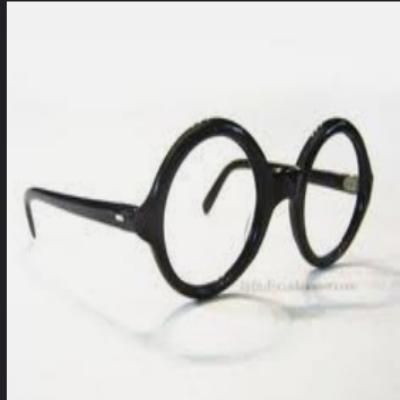glasses: (22, 110, 376, 305)
